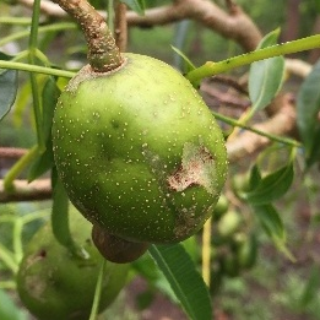coc: (54, 52, 229, 247)
